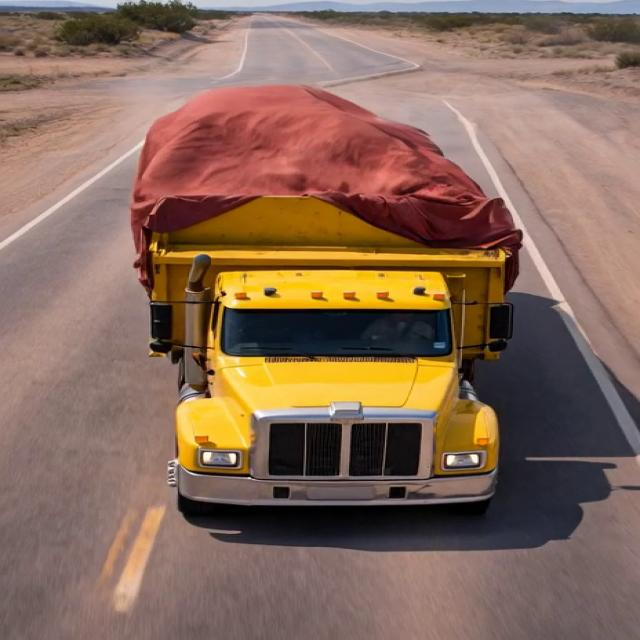trailer: (119, 120, 542, 223)
truck: (72, 90, 592, 520)
